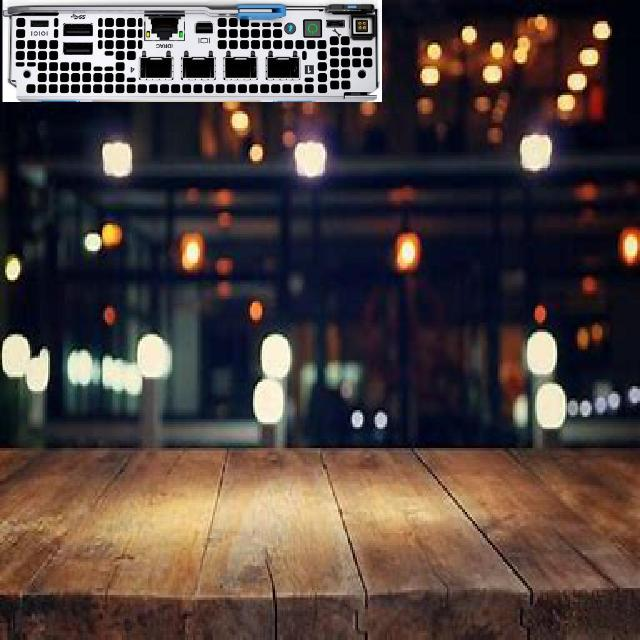Server: (2, 0, 382, 101)
